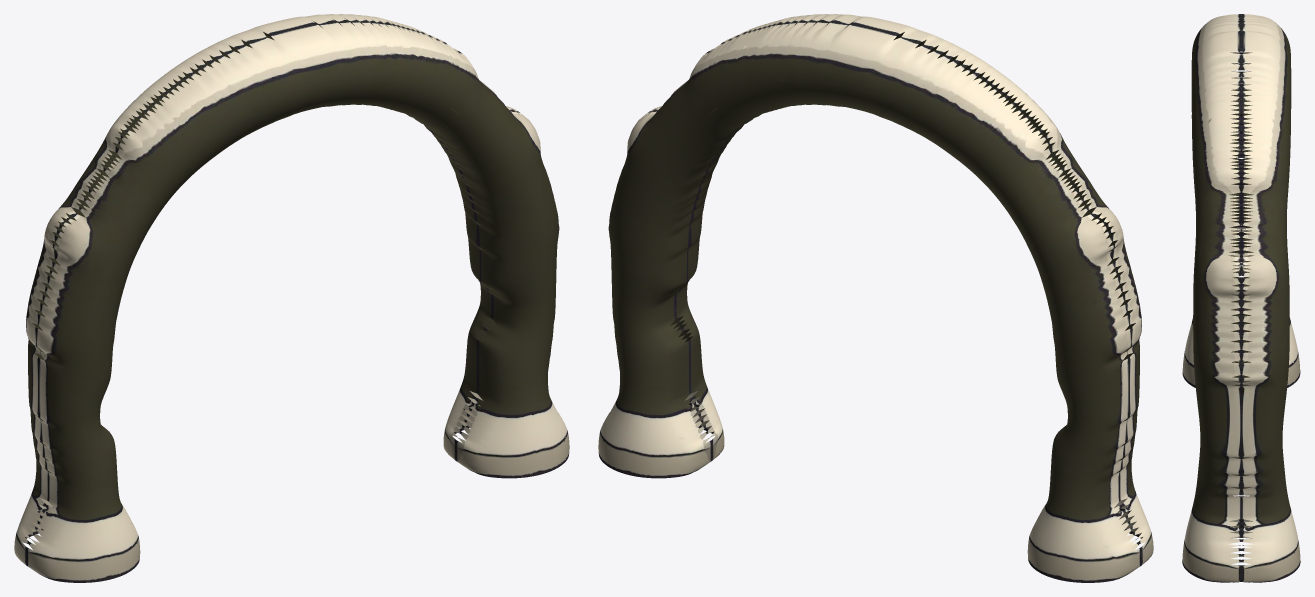
Rendered from portal_arch.glb.
3 views of the same model, side by side, from view 1: azimuth 30°, elevation 25°; view 2: azimuth 150°, elevation 25°; view 3: azimuth 270°, elevation 25° (orthographic). The views are drawn at different scales.
Visible parts, largest first — view 1: portal_arch; view 2: portal_arch; view 3: portal_arch.
Part boxes in pixels (box(x1,y1,x2,y2)): portal_arch: box(14, 14, 569, 582); portal_arch: box(598, 14, 1153, 582); portal_arch: box(1182, 14, 1300, 582).
Bounding box in the file's own units: 0.9889 × 0.8444 × 0.2117.
1 material, 1 textured.
